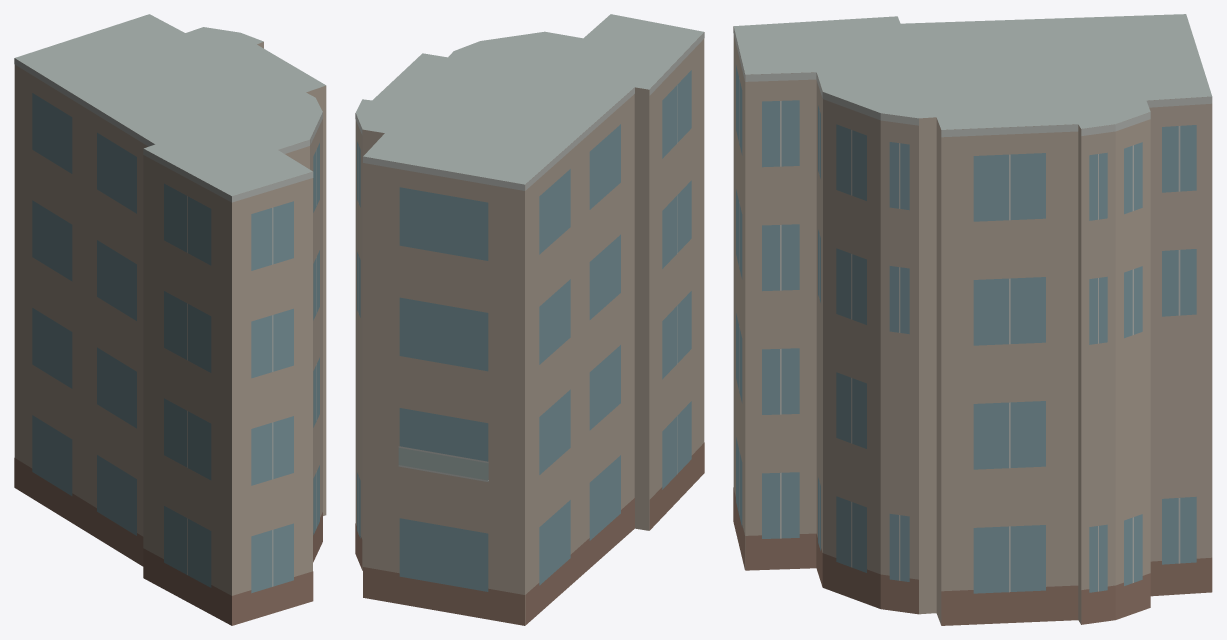
Rendered from survey-upis-32487098.glb.
3 renders of one model, left to right at view 1: azimuth 30°, elevation 25°; view 2: azimuth 150°, elevation 25°; view 3: azimuth 270°, elevation 25°, orthographic. The views are drawn at different scales.
Parts seen in each view (by area): view 1: survey-upis-32487098.tmp; view 2: survey-upis-32487098.tmp; view 3: survey-upis-32487098.tmp.
Boxes of the visible parts, x1,y1,x2,y2 form: survey-upis-32487098.tmp: (14, 14, 326, 625); survey-upis-32487098.tmp: (355, 14, 704, 625); survey-upis-32487098.tmp: (733, 14, 1212, 625).
Bounding box in the file's own units: 8.35 × 16.62 × 14.55.
